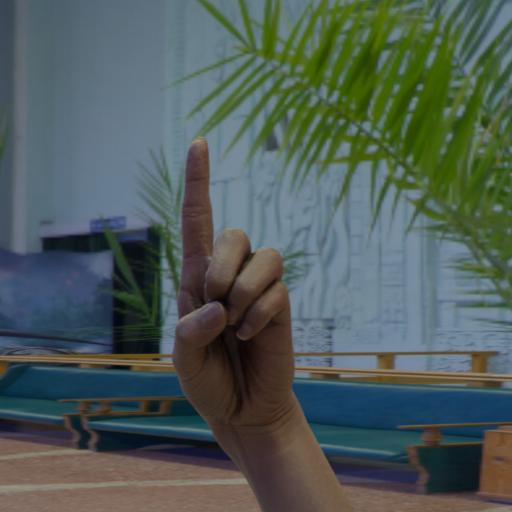D: (157, 134, 317, 450)
